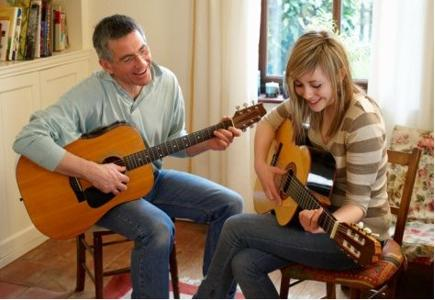person: (15, 16, 246, 299)
